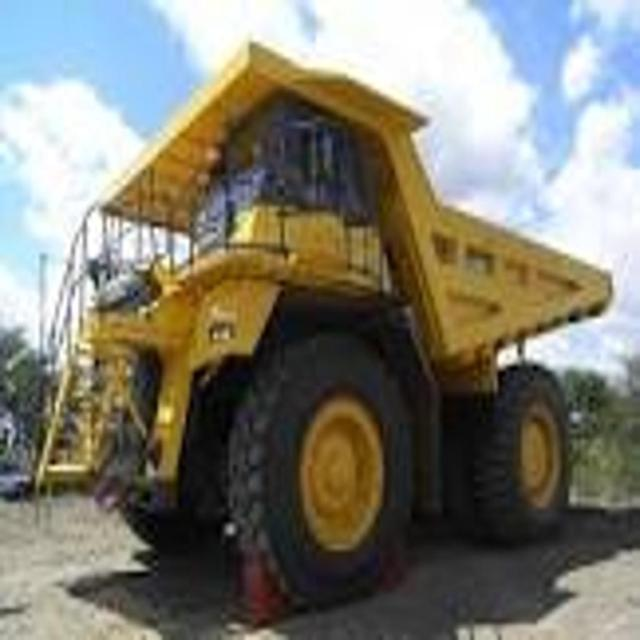dump_truck: (30, 32, 614, 624)
